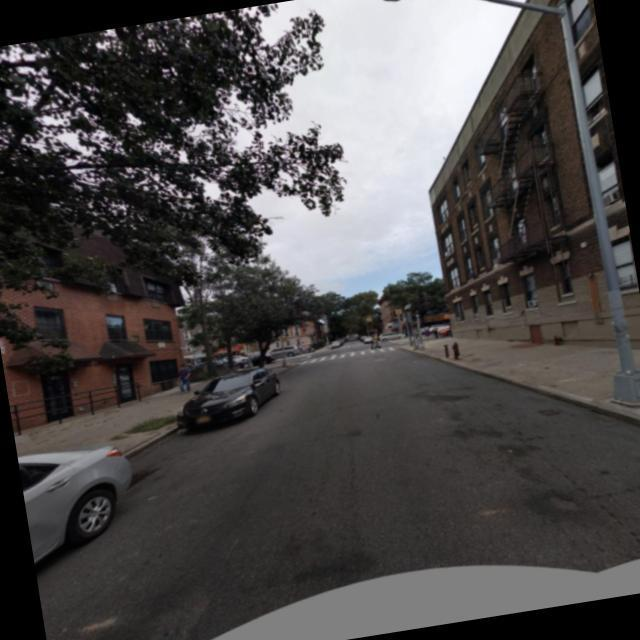off: (328, 0, 594, 70)
